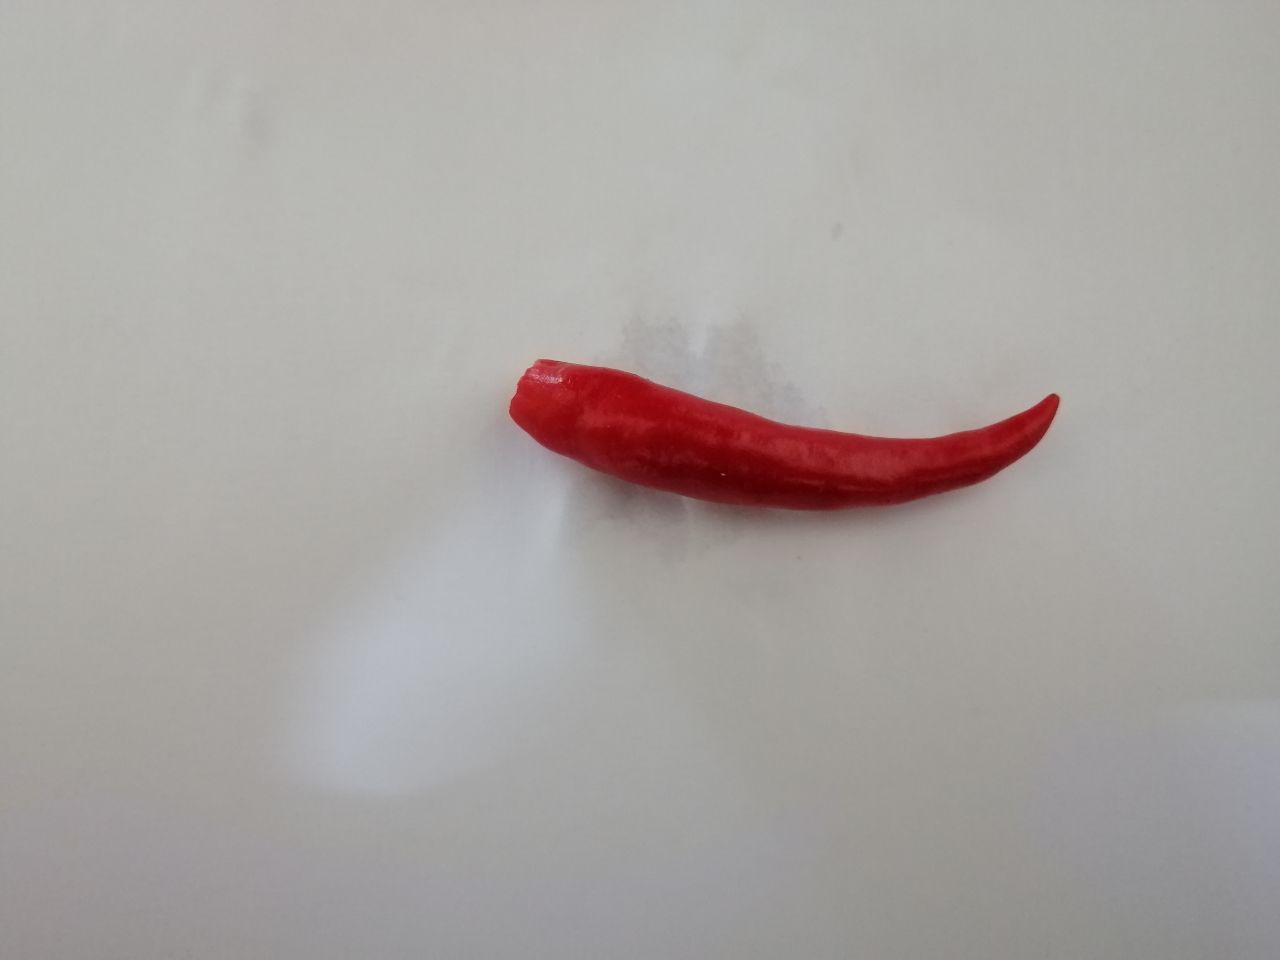lada merah: (487, 315, 1066, 556)
